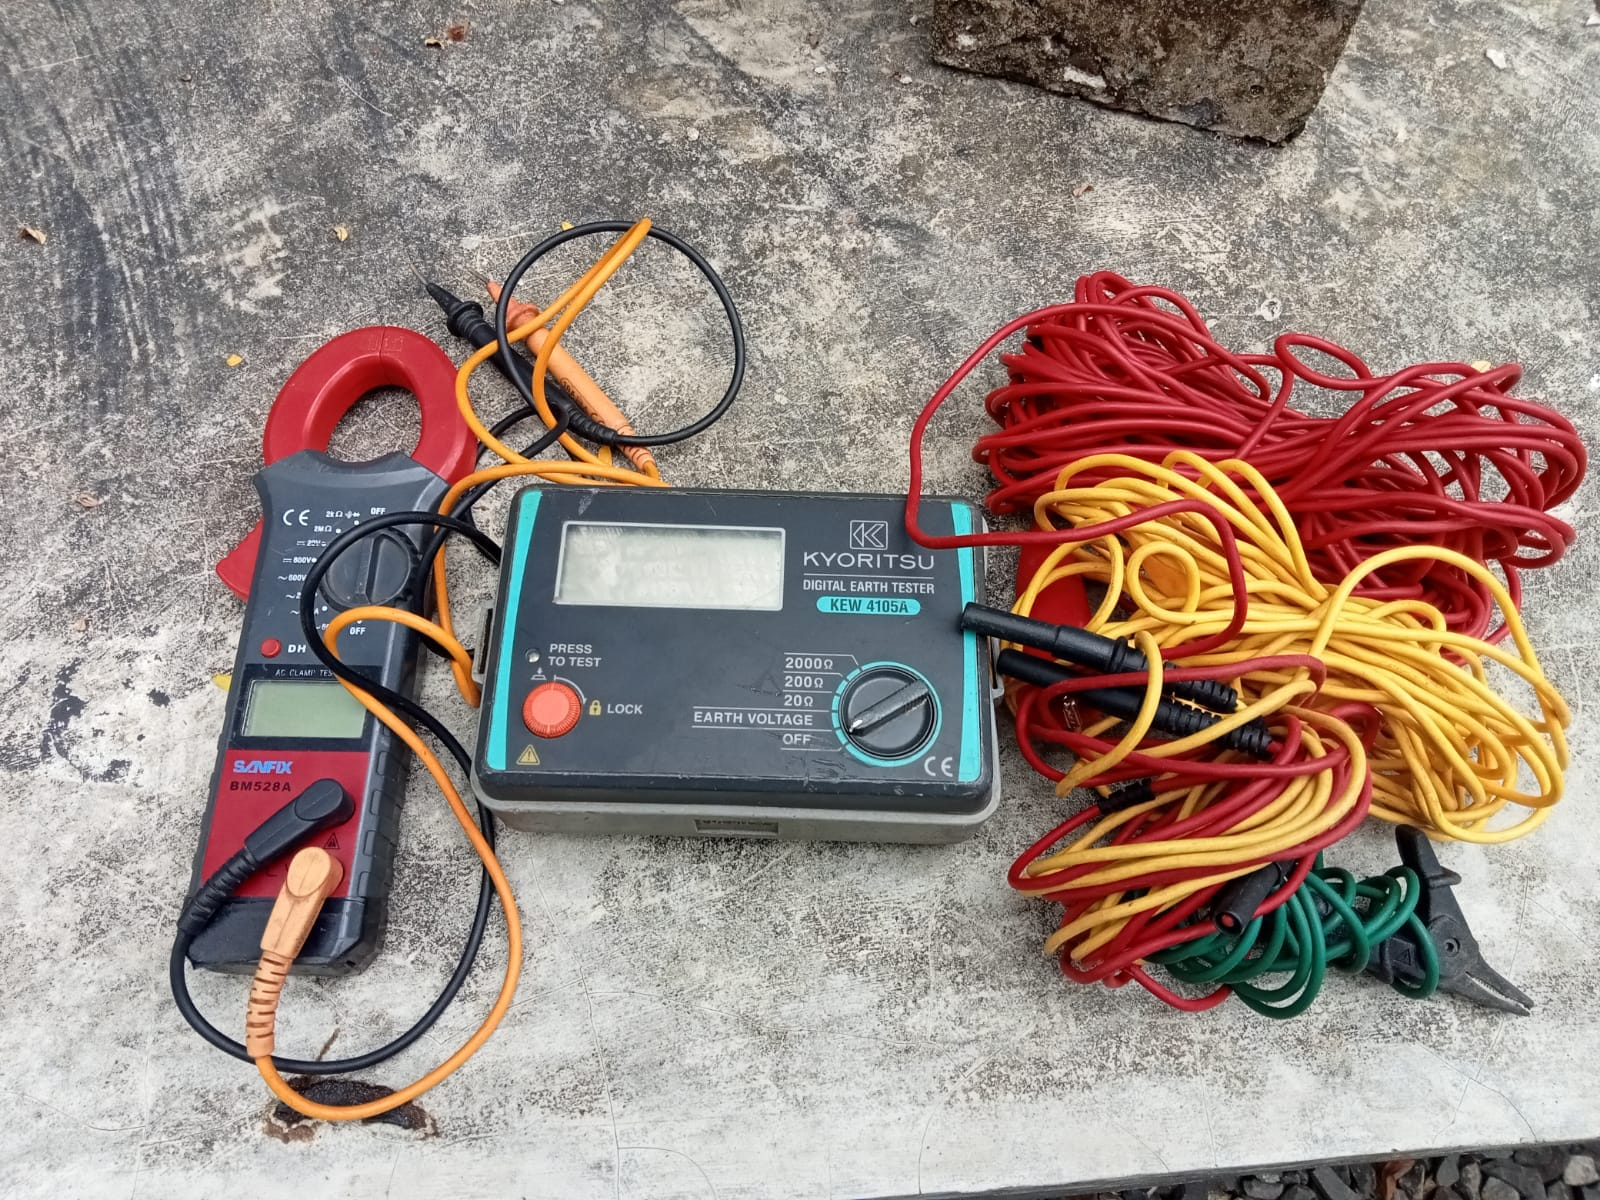EARTH_GROUNDING_TESTER: (490, 480, 999, 834)
TANG_AMPERE: (175, 321, 475, 962)
